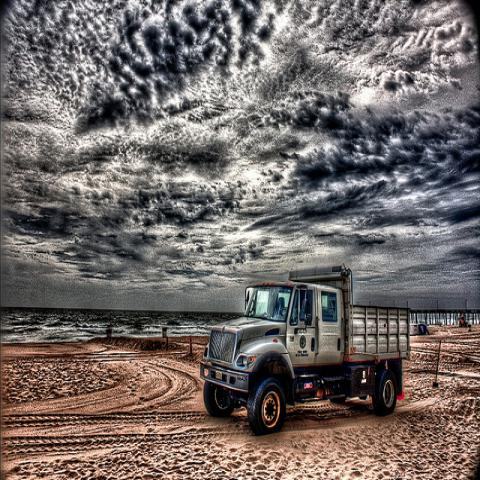truck: (198, 265, 414, 428)
